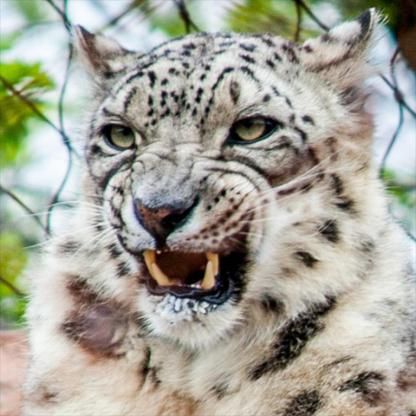leopard: (52, 10, 380, 334)
